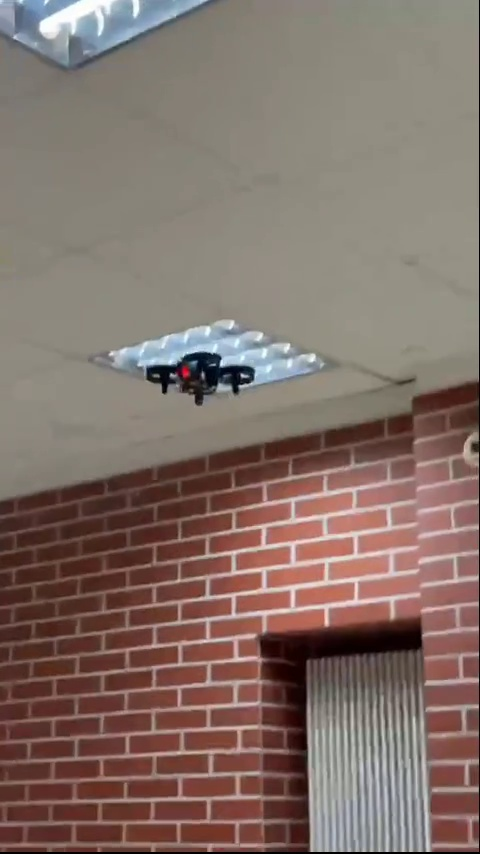drone: (149, 352, 254, 403)
